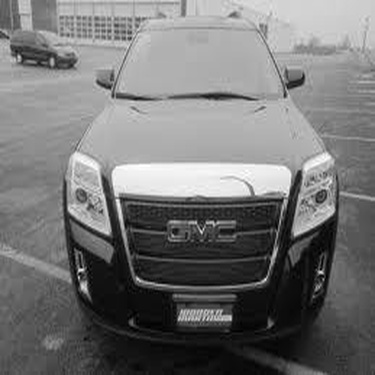car: (50, 9, 343, 350), (7, 25, 79, 72), (1, 29, 12, 44)
